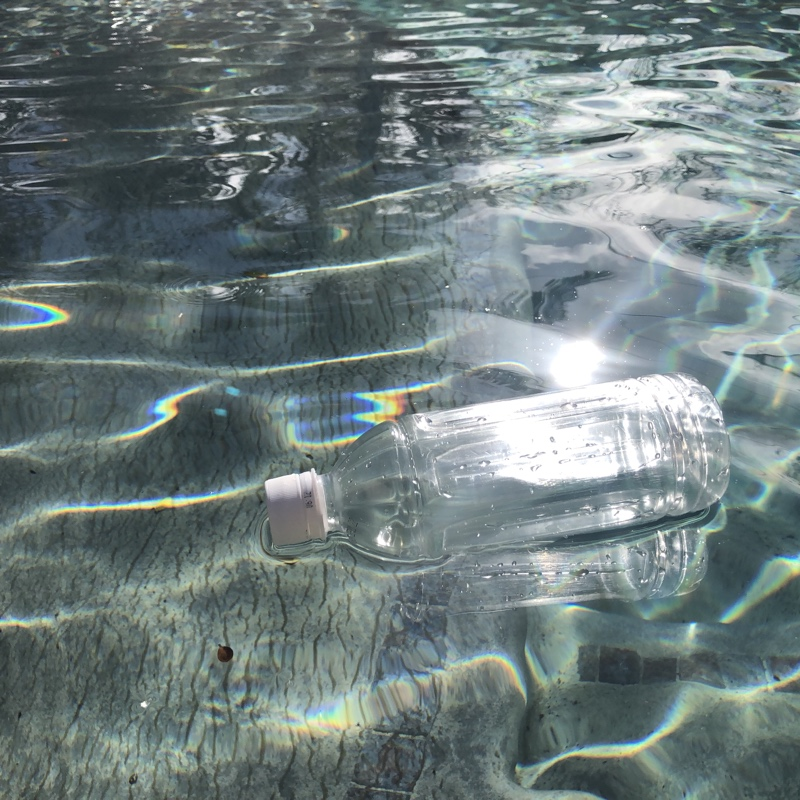Plastic Bottle: (261, 371, 732, 565)
